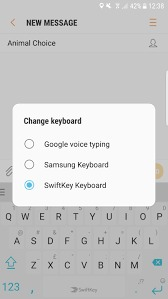keyboard: (3, 212, 165, 297)
